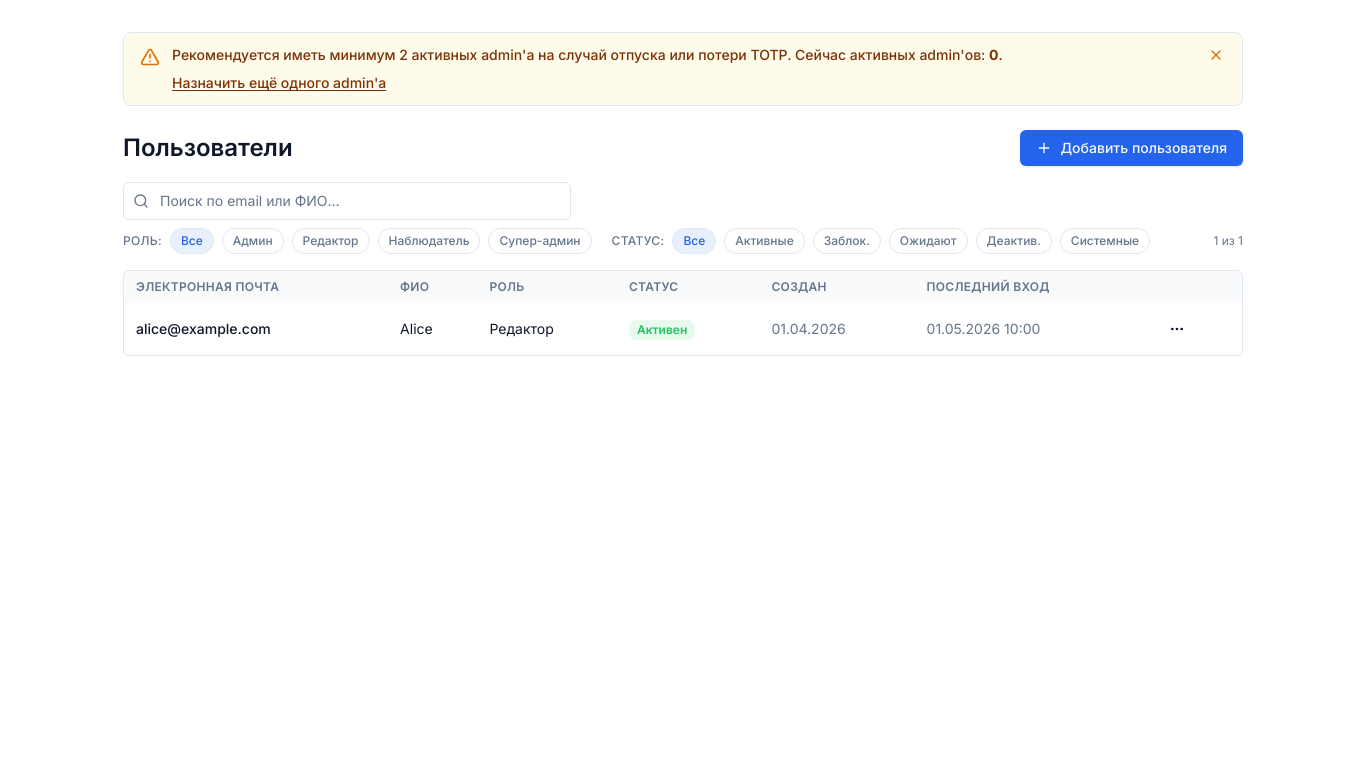
it: UsersPage table › opens CreateUserDialog when + button is clicked
Click the button "Добавить пользователя": [1132, 148] box [1020, 130, 1243, 166]
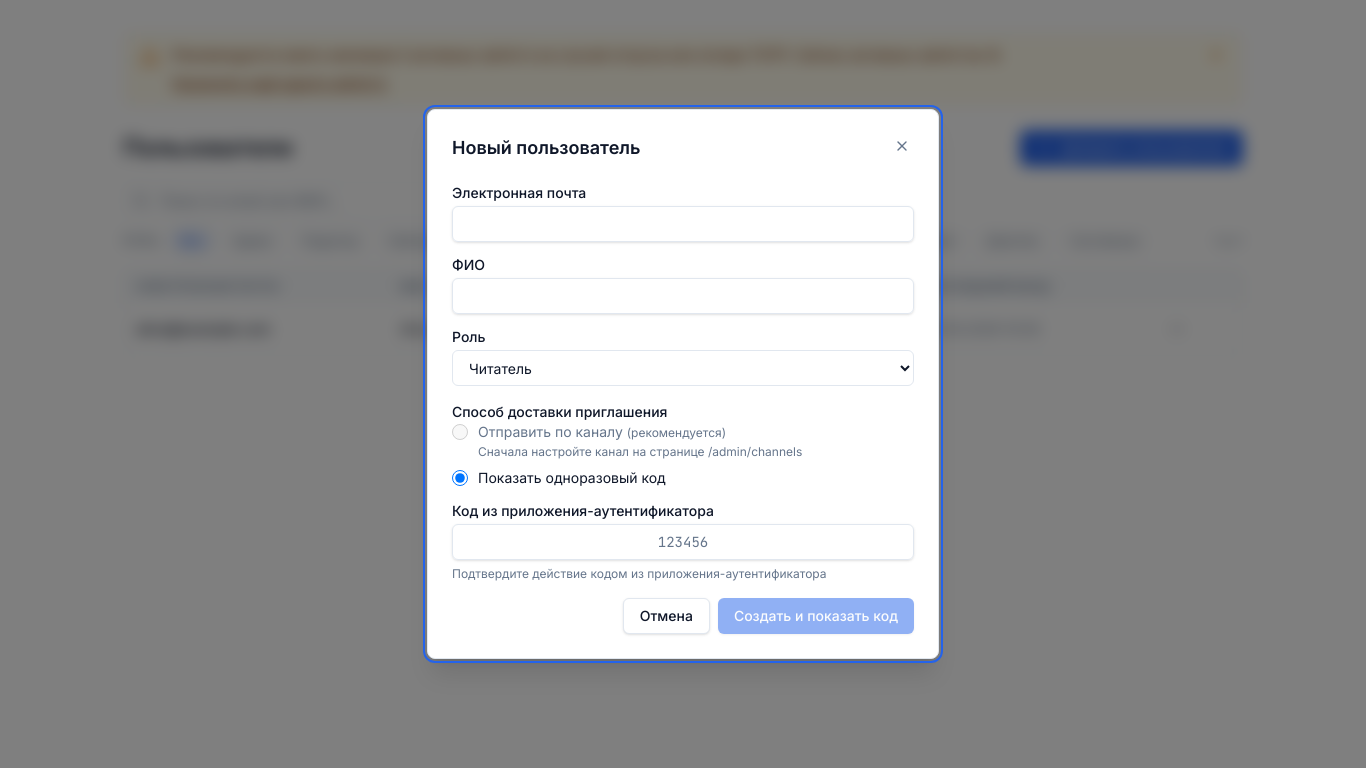
Now the dialog "Новый пользователь" is shown, box [427, 109, 939, 659]
